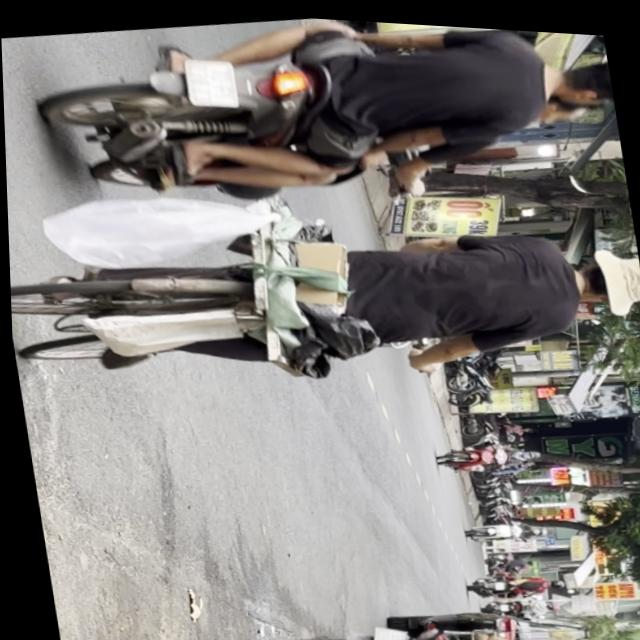licenseplate: (25, 1, 627, 244)
nohelmet: (183, 50, 239, 107), (364, 617, 406, 640)
